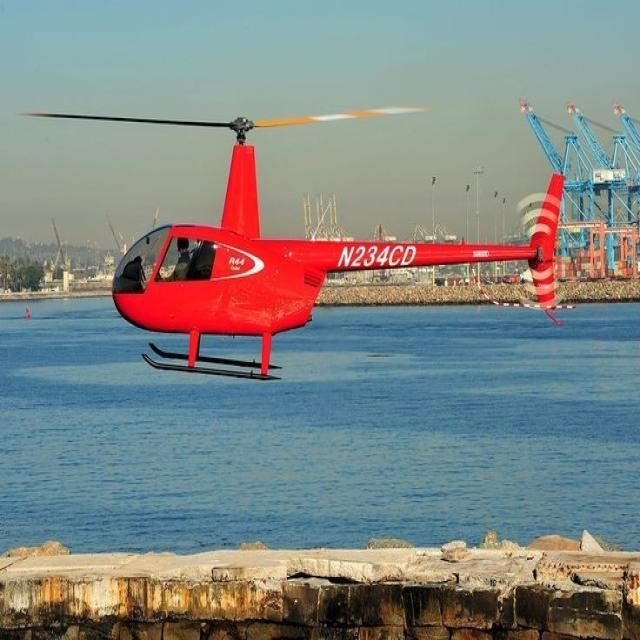CIV_HELO: (110, 116, 536, 382)
